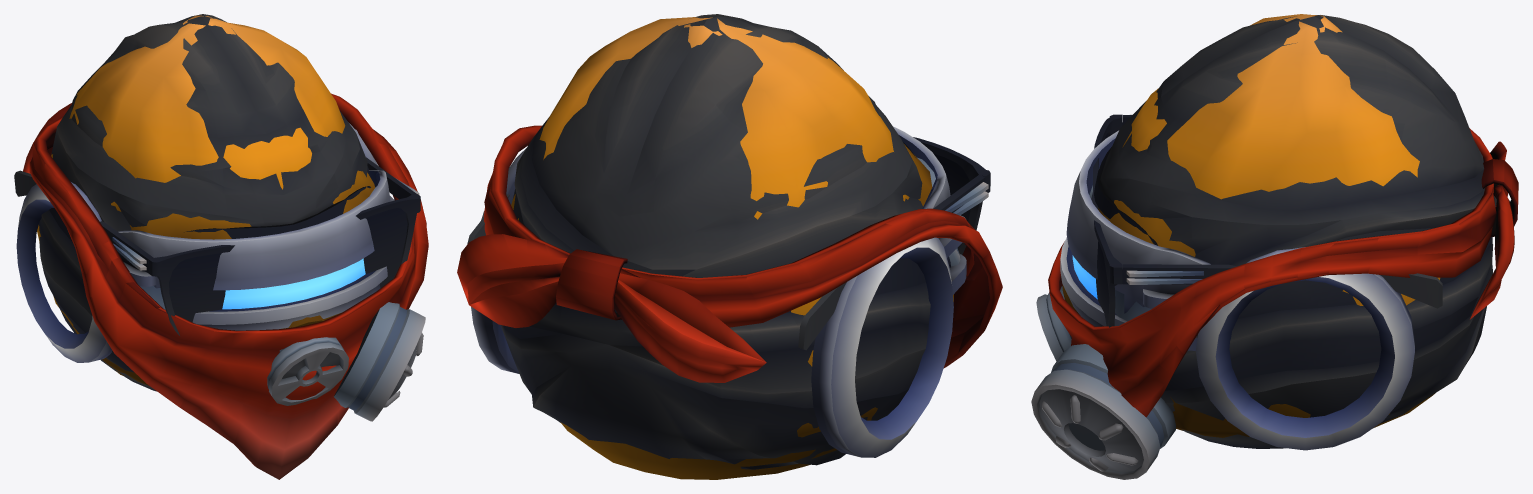
Rendered from BTLMN_Outfit_Face_A.glb.
3 views of the same model, side by side, from view 1: azimuth 30°, elevation 25°; view 2: azimuth 150°, elevation 25°; view 3: azimuth 270°, elevation 25° (orthographic). The views are drawn at different scales.
Parts seen in each view (by area): view 1: Face_Ninja_Balaclava_NA01, Face_Cowboy_Scarf_CA01, Face_Gas_Mask_MA01, Face_Visor_VR_VR01, Face_Sunglasses_RA01; view 2: Face_Ninja_Balaclava_NA01, Face_Cowboy_Scarf_CA01, Face_Gas_Mask_MA01, Face_Visor_VR_VR01, Face_Sunglasses_RA01; view 3: Face_Ninja_Balaclava_NA01, Face_Gas_Mask_MA01, Face_Cowboy_Scarf_CA01, Face_Visor_VR_VR01, Face_Sunglasses_RA01.
Boxes of the visible parts, box(x1,y1,x2,y2) form: Face_Ninja_Balaclava_NA01: box(39, 14, 370, 391); Face_Cowboy_Scarf_CA01: box(23, 93, 428, 479); Face_Gas_Mask_MA01: box(37, 15, 425, 421); Face_Visor_VR_VR01: box(16, 123, 394, 362); Face_Sunglasses_RA01: box(14, 157, 420, 335); Face_Ninja_Balaclava_NA01: box(500, 14, 930, 469); Face_Cowboy_Scarf_CA01: box(457, 125, 1002, 382); Face_Gas_Mask_MA01: box(511, 17, 960, 479); Face_Visor_VR_VR01: box(471, 126, 966, 457); Face_Sunglasses_RA01: box(467, 137, 990, 350); Face_Ninja_Balaclava_NA01: box(1094, 15, 1496, 448); Face_Gas_Mask_MA01: box(1031, 14, 1440, 479); Face_Cowboy_Scarf_CA01: box(1048, 128, 1518, 417); Face_Visor_VR_VR01: box(1060, 130, 1414, 450); Face_Sunglasses_RA01: box(1091, 114, 1442, 327).
Size of the model in its own units: 1.19 by 1.31 by 1.27.
5 materials, 4 textured.
